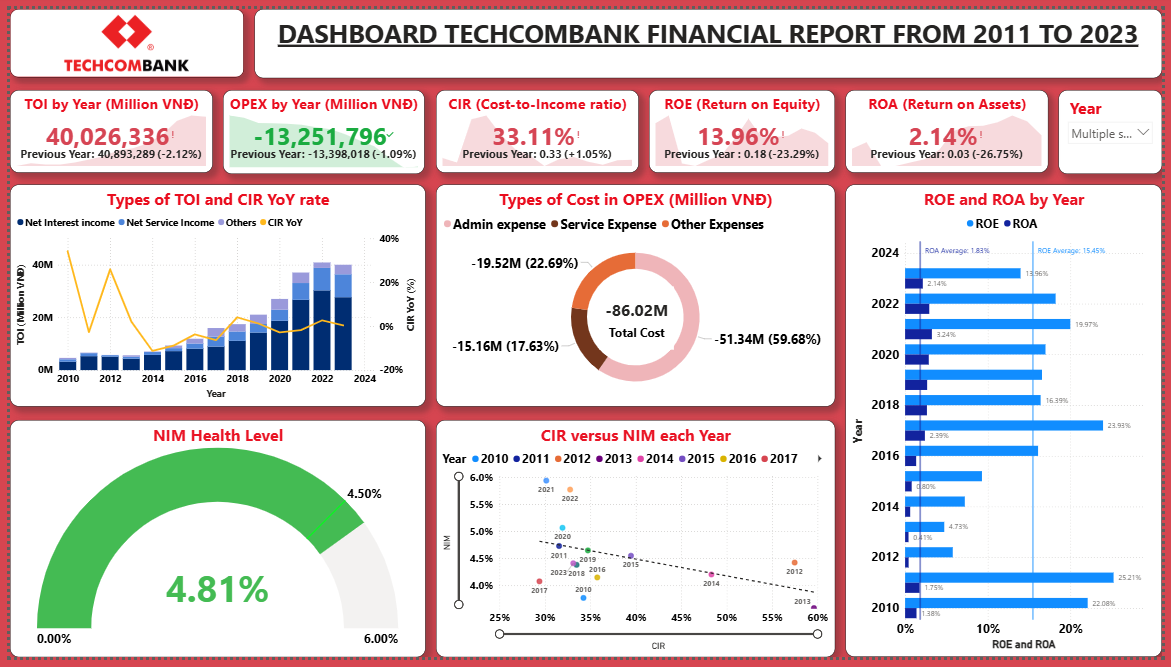

What the dashboard file says about the page in this screenshot:
{"tool":"powerbi","page":{"name":"Page 1","canvas":[1920,1080],"ordinal":0},"visuals":[{"type":"image","box":[0,0,390,114],"z":0},{"type":"textbox","box":[407.5,0,1512.5,115],"z":1000},{"type":"kpi","title":"TOI by Year (Million VNĐ)","fields":{"Indicator":["Kết quả kinh doanh.TOI"],"TrendLine":["Năm.Năm"],"Goal":["Bảng cân đối kế toán.TOI LY"]},"box":[0,136,338,138],"z":2000},{"type":"slicer","fields":{"Values":["Năm.Năm"]},"box":[1747.5,135,172.5,140],"z":3000},{"type":"kpi","title":"OPEX by Year (Million VNĐ)","fields":{"TrendLine":["Năm.Năm"],"Indicator":["Kết quả kinh doanh.OPEX"],"Goal":["Kết quả kinh doanh.OPEX LY"]},"box":[356,136,336,140],"z":4000},{"type":"kpi","title":"CIR (Cost-to-Income ratio)","fields":{"TrendLine":["Năm.Năm"],"Indicator":["Kết quả kinh doanh.CIR"],"Goal":["Kết quả kinh doanh.CIR LY"]},"box":[710,136,338,138],"z":5000},{"type":"kpi","title":"ROE (Return on Equity)","fields":{"TrendLine":["Năm.Năm"],"Goal":["Kết quả kinh doanh.ROE LY"],"Indicator":["Kết quả kinh doanh.ROE"]},"box":[1066,136,310,138],"z":6000},{"type":"kpi","title":"ROA (Return on Assets)","fields":{"TrendLine":["Năm.Năm"],"Indicator":["Bảng cân đối kế toán.ROA"],"Goal":["Kết quả kinh doanh.ROA LY"]},"box":[1392,136,338,138],"z":7000},{"type":"lineStackedColumnComboChart","title":"Types of TOI and CIR YoY rate","fields":{"Category":["Năm.Year"],"Y2":["Kết quả kinh doanh.CIR YoY"],"Y":["Sum(Kết quả kinh doanh.Thu nhập lãi thuần)","Sum(Kết quả kinh doanh.Lãi/Lỗ thuần từ hoạt động dịch vụ)","Kết quả kinh doanh.Other Operating Income"]},"box":[0,292.5,692.5,370],"z":8000},{"type":"donutChart","title":"Types of Cost in OPEX (Million VNĐ)","fields":{"Y":["Kết quả kinh doanh.Admin expense","Sum(Kết quả kinh doanh.Chi phí hoạt động dịch vụ)","Sum(Kết quả kinh doanh.Chi phí hoạt động khác)"]},"box":[710,292.5,665,370],"z":9000},{"type":"card","fields":{"Values":["Kết quả kinh doanh.OPEX"]},"box":[981.2,462.5,123.8,105],"z":10000},{"type":"gauge","title":"NIM Health Level","fields":{"Y":["Bảng cân đối kế toán.NIM"]},"box":[0,685,692.5,395],"z":11000},{"type":"scatterChart","title":"CIR versus NIM each Year","fields":{"X":["Kết quả kinh doanh.CIR"],"Series":["Năm.Year"],"Y":["Bảng cân đối kế toán.NIM"]},"box":[710,685,665,395],"z":12000},{"type":"clusteredBarChart","fields":{"Category":["Năm.Year"],"Y":["Kết quả kinh doanh.ROE","Bảng cân đối kế toán.ROA"]},"box":[1392.5,292.5,527.5,787.5],"z":13000}]}

Visuals, with their boxes in screenshot pixels (x1, y1, x2, y2), scaled from the page's 1920x1080 canvas onto the 1171x667 screenshot:
image: <region>0, 0, 238, 70</region>
textbox: <region>249, 0, 1170, 71</region>
"TOI by Year (Million VNĐ)" kpi: <region>0, 84, 206, 169</region>
slicer - Năm.Năm: <region>1066, 83, 1170, 170</region>
"OPEX by Year (Million VNĐ)" kpi: <region>217, 84, 422, 170</region>
"CIR (Cost-to-Income ratio)" kpi: <region>433, 84, 639, 169</region>
"ROE (Return on Equity)" kpi: <region>650, 84, 839, 169</region>
"ROA (Return on Assets)" kpi: <region>849, 84, 1055, 169</region>
"Types of TOI and CIR YoY rate" lineStackedColumnComboChart: <region>0, 181, 422, 409</region>
"Types of Cost in OPEX (Million VNĐ)" donutChart: <region>433, 181, 839, 409</region>
card - Kết quả kinh doanh.OPEX: <region>598, 286, 674, 350</region>
"NIM Health Level" gauge: <region>0, 423, 422, 666</region>
"CIR versus NIM each Year" scatterChart: <region>433, 423, 839, 666</region>
clusteredBarChart - Năm.Year x Kết quả kinh doanh.ROE: <region>849, 181, 1170, 666</region>
